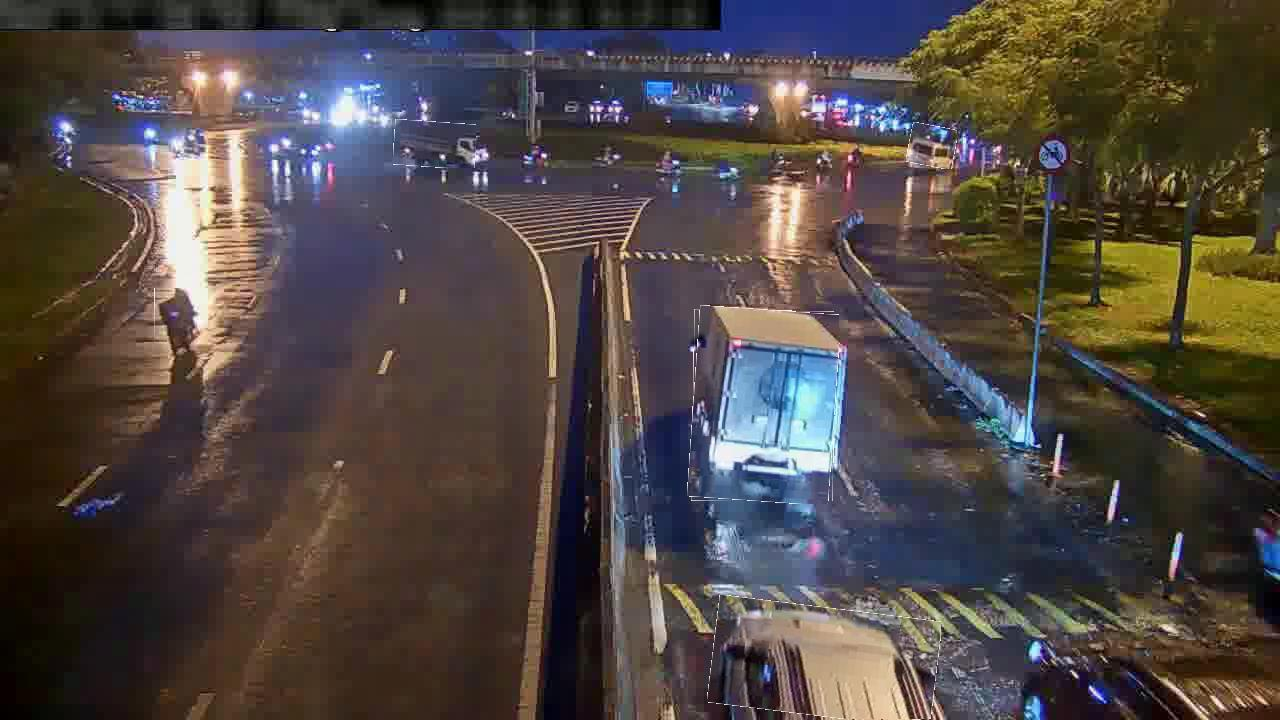14: (692, 310, 835, 502), (908, 124, 957, 168)
8: (690, 308, 837, 503), (394, 121, 477, 168)
container: (710, 601, 940, 719)
motorbike: (155, 279, 197, 351)
